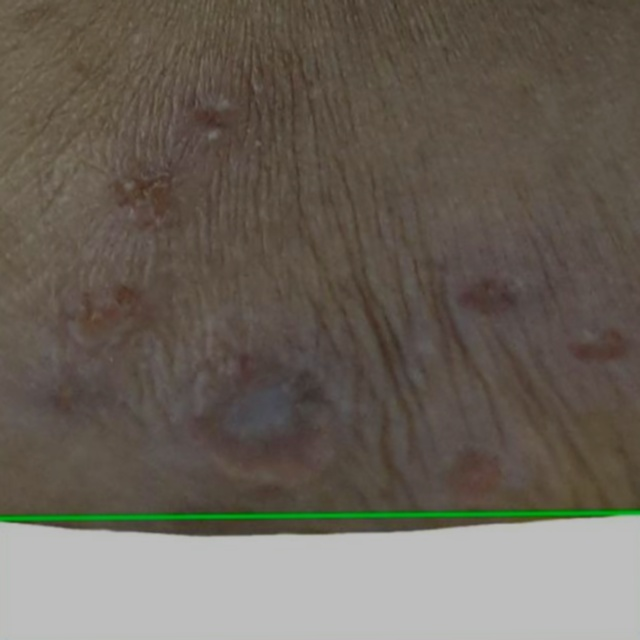Contact Dermatitis: (0, 512, 639, 639)
